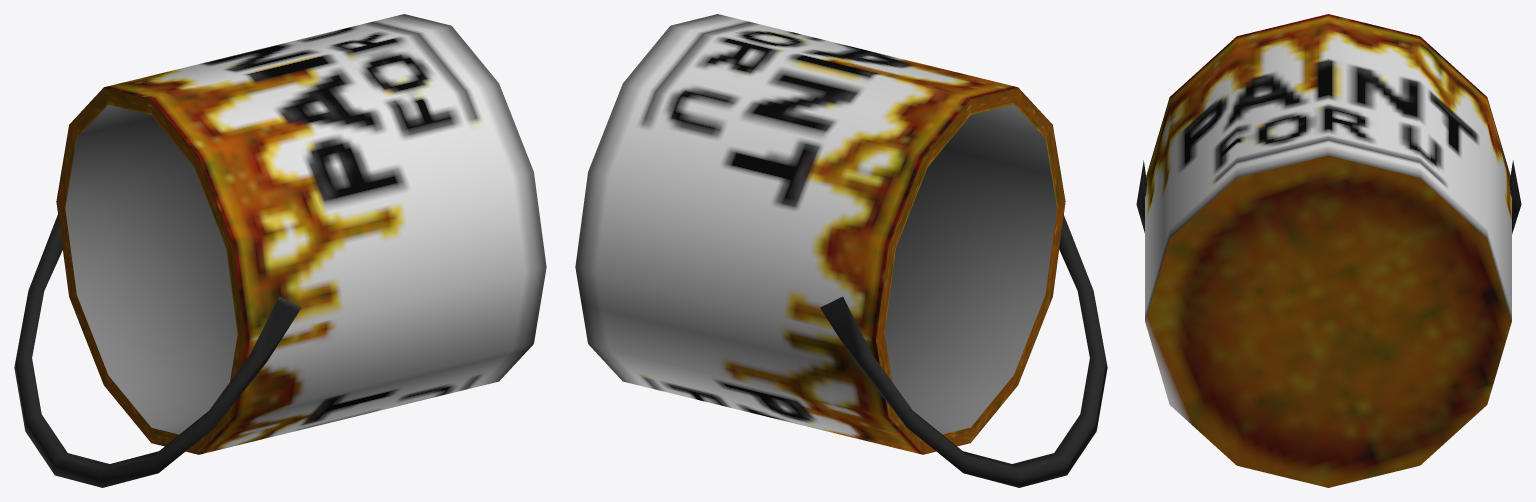
File: PaintTinDefecatedNull.fbx
3 renders of one model, left to right at view 1: azimuth 30°, elevation 25°; view 2: azimuth 150°, elevation 25°; view 3: azimuth 270°, elevation 25°, orthographic. The views are drawn at different scales.
Parts seen in each view (by area): view 1: PaintTinEmpty; view 2: PaintTinEmpty; view 3: PaintTinEmpty.
Part boxes in pixels (x1,y1,x2,y2): PaintTinEmpty: (14,14,546,487); PaintTinEmpty: (575,14,1107,487); PaintTinEmpty: (1136,14,1521,487).
Size of the model in its own units: 0.3866 by 0.3284 by 0.3362.
